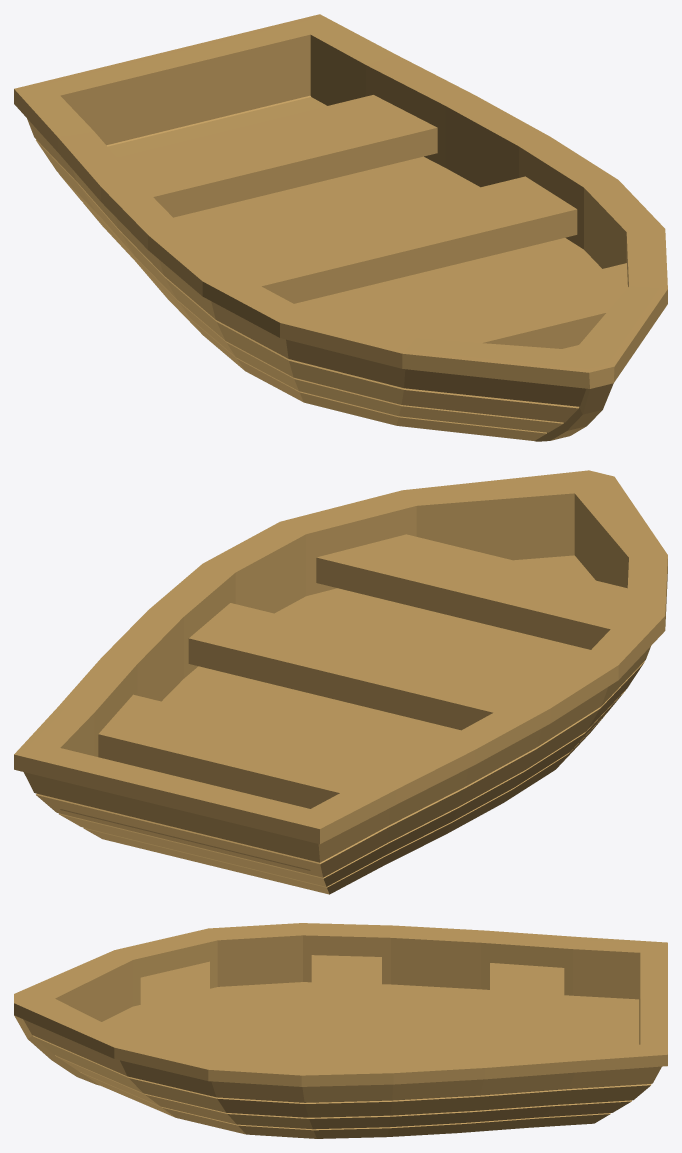
Rendered from PaddleBoat.fbx.
3 views of the same model, one above another, from view 1: azimuth 30°, elevation 25°; view 2: azimuth 150°, elevation 25°; view 3: azimuth 270°, elevation 25° (orthographic). The views are drawn at different scales.
Parts seen in each view (by area): view 1: Cube; view 2: Cube; view 3: Cube.
Part boxes in pixels (bbox=[...]): Cube: bbox=[14, 14, 667, 441]; Cube: bbox=[14, 470, 667, 894]; Cube: bbox=[14, 923, 667, 1138].
Size of the model in its own units: 482 by 123 by 874.
